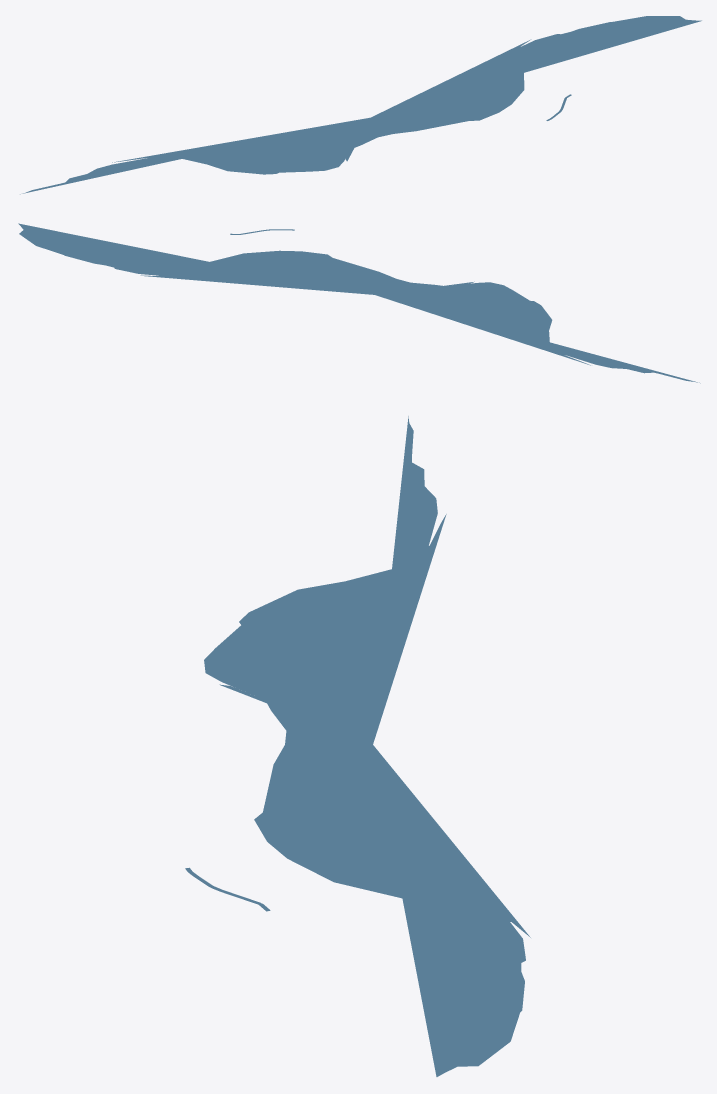
The model's file is c_1648_17834_water.glb.
3 views of the same model, one above another, from view 1: azimuth 30°, elevation 25°; view 2: azimuth 150°, elevation 25°; view 3: azimuth 270°, elevation 25° (orthographic). The views are drawn at different scales.
Parts seen in each view (by area): view 1: geometry_0; view 2: geometry_0; view 3: geometry_0.
Part boxes in pixels (x1,y1,x2,y2): geometry_0: (20,16,701,194); geometry_0: (18,223,700,383); geometry_0: (185,416,530,1076).
Bounding box in the file's own units: 1890 × 0.01 × 417.
